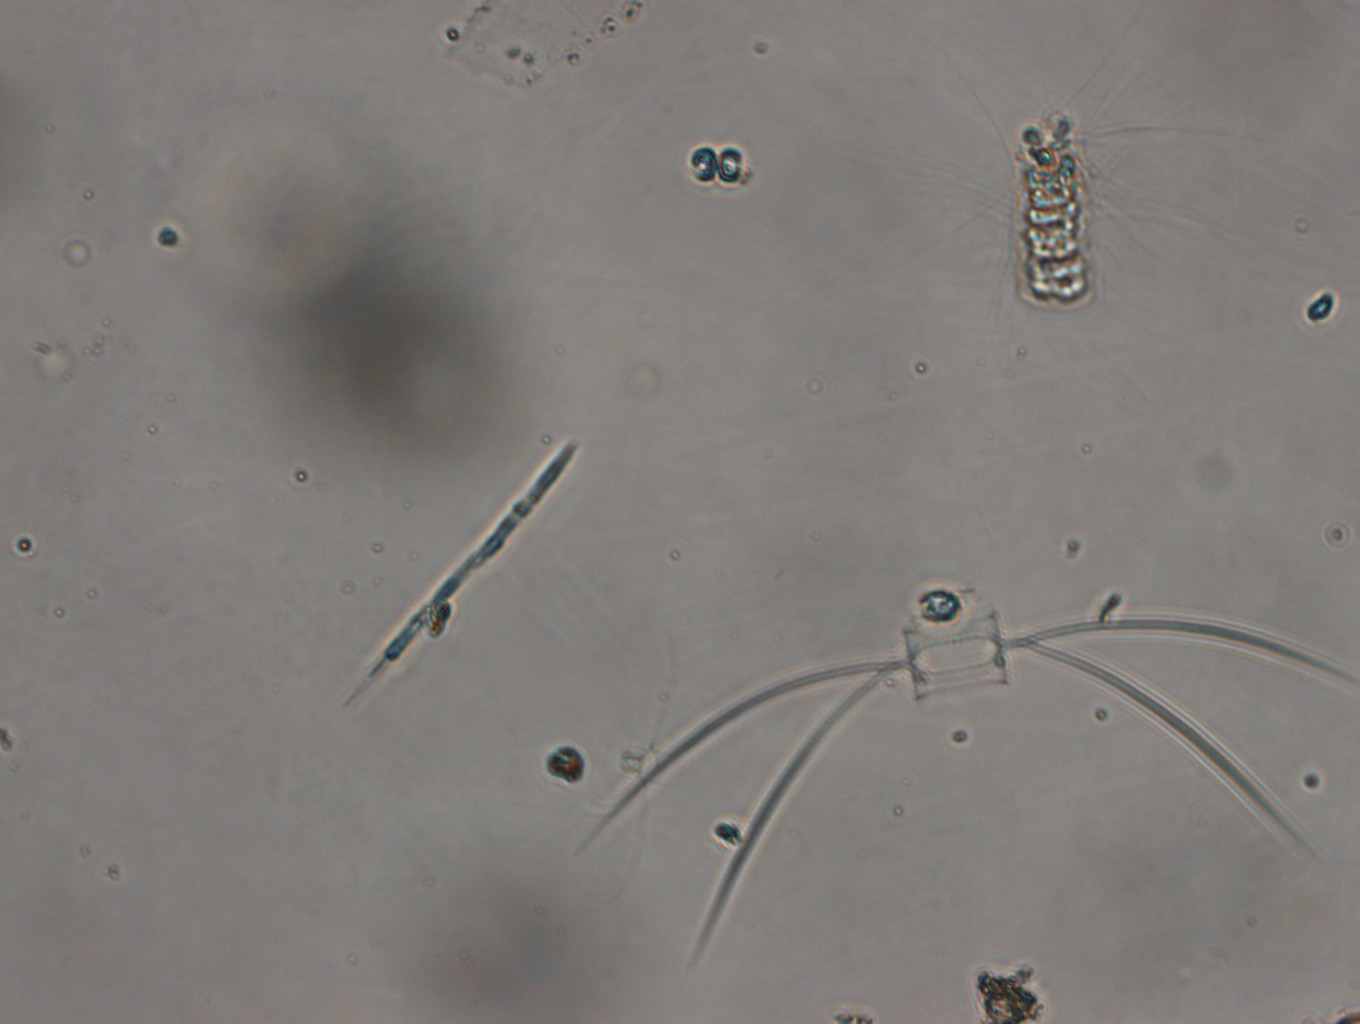chaetoceros: (577, 578, 1360, 984)
